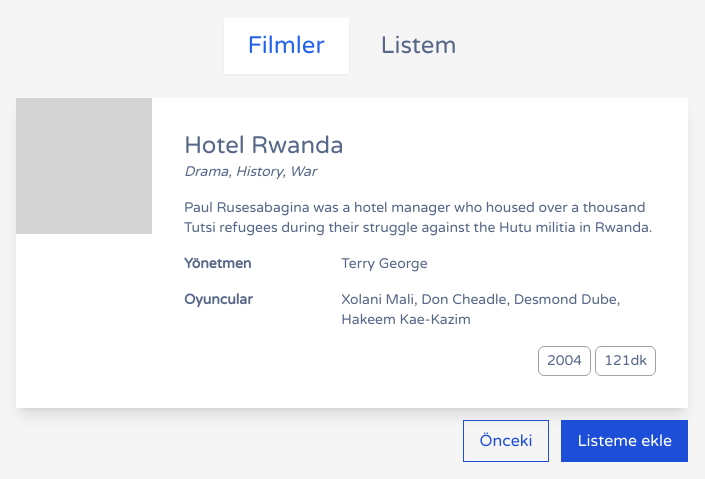
Listeme ekle eklenen filmi listeme ekliyor
Click the link "Listem" at coordinates (418, 46), box x1=381 y1=31 x2=456 y2=60
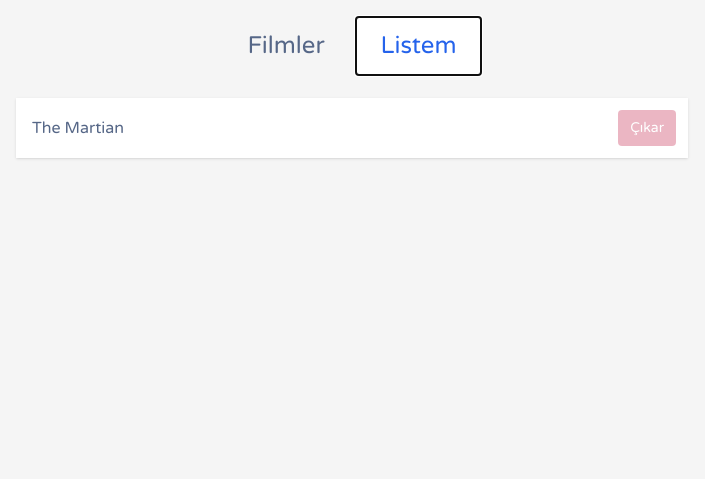
Expected: the text "The Martian" is shown, x1=32 y1=118 x2=124 y2=138
